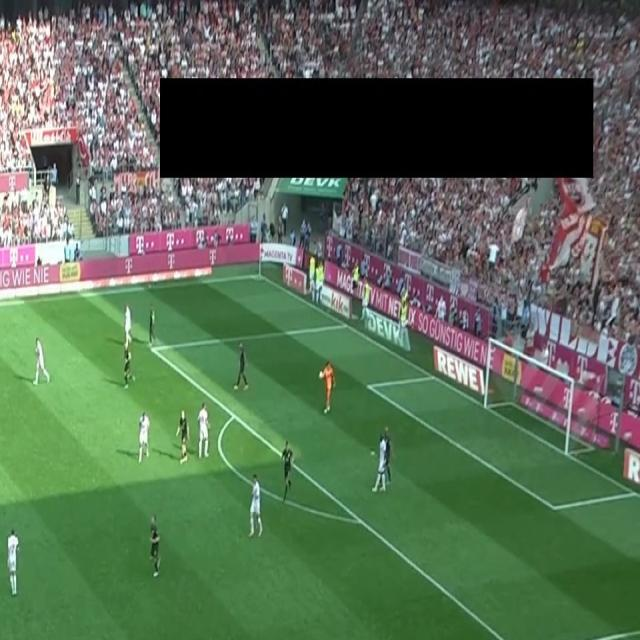ball: (318, 370, 324, 380)
